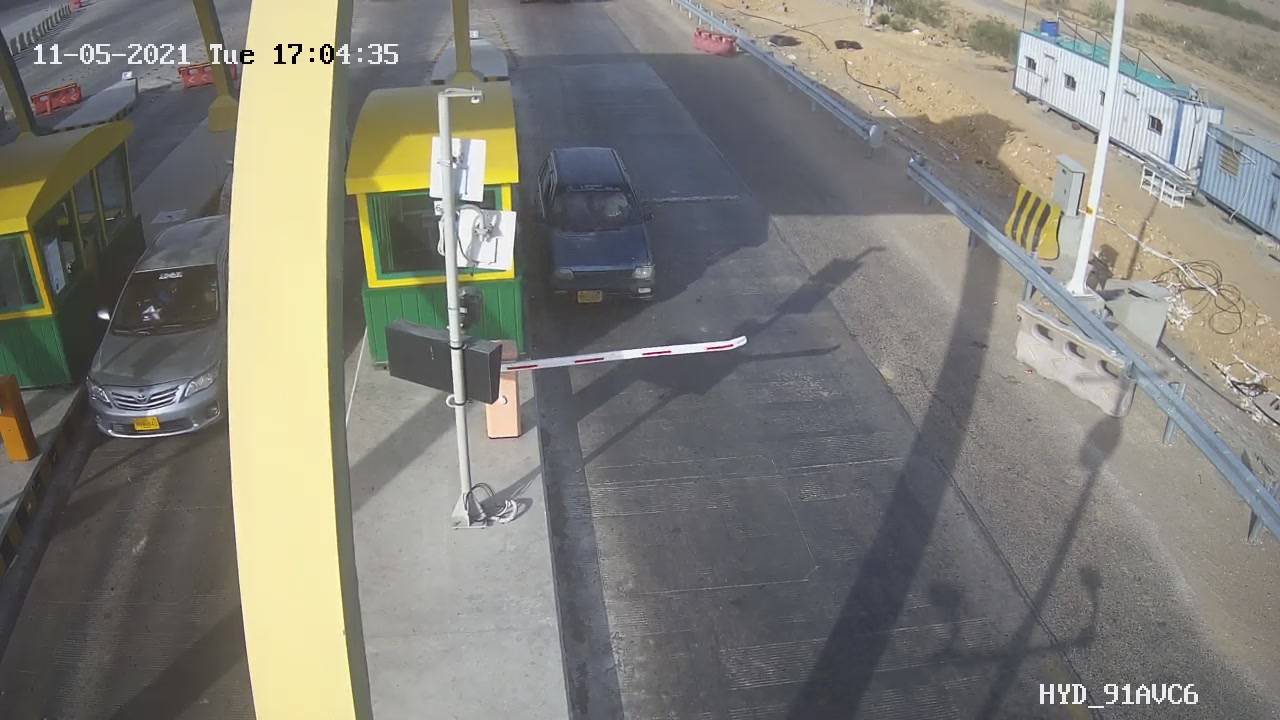F1: (516, 129, 687, 331)
